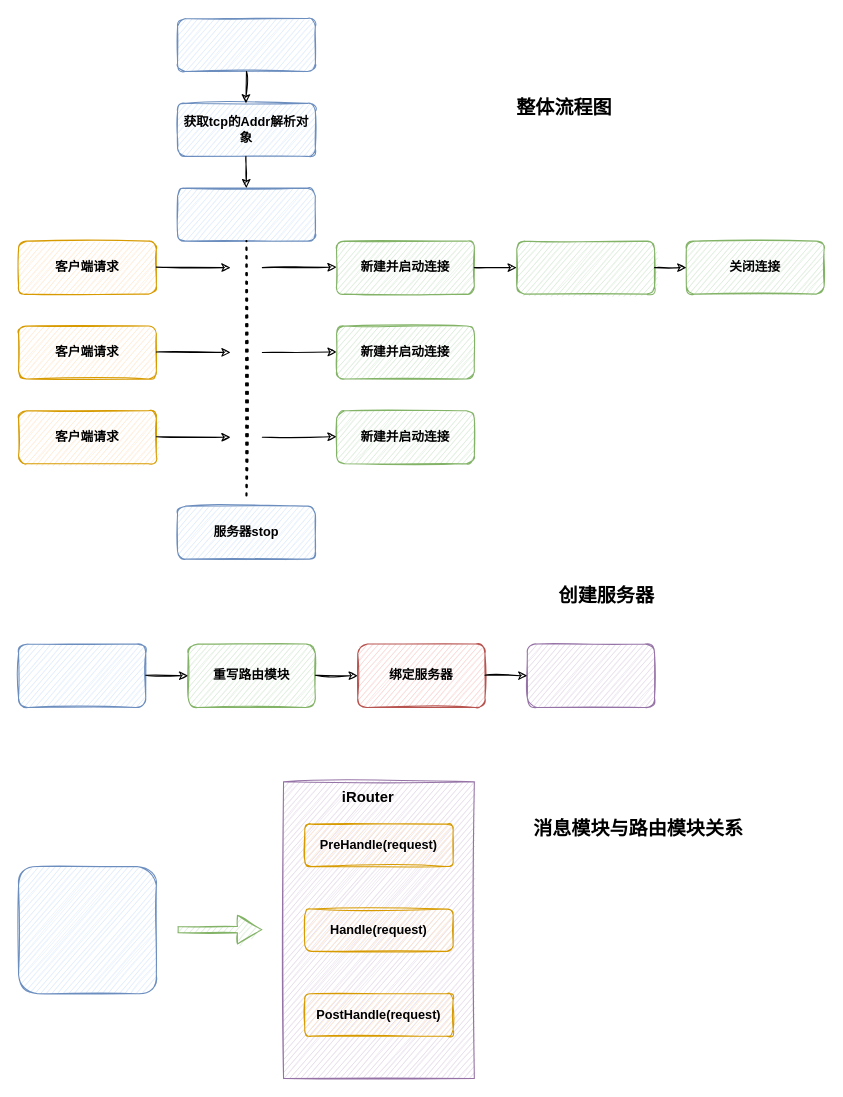
The diagram is 843 pixels wide and 1097 high, and some of its shapes have lost their labels. The centre of each missing label's shape, as x and y in pixels:
request请求： 1.conn 2.data: the point at 86,929
启动服务器: the point at 590,675
基于Addr对象阻塞监听: the point at 245,214
新建服务器句柄: the point at 81,675
服务器start: the point at 245,44
读取请求数据，构建request，执行路由业务: the point at 585,267
